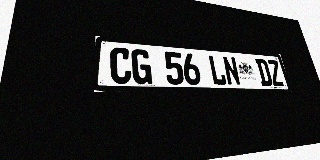5: (164, 51, 185, 85)
6: (181, 53, 202, 85)
C: (110, 47, 132, 84)
D: (255, 59, 273, 86)
G: (131, 49, 152, 84)
L: (207, 55, 227, 85)
N: (222, 56, 241, 86)
Z: (266, 60, 285, 86)
